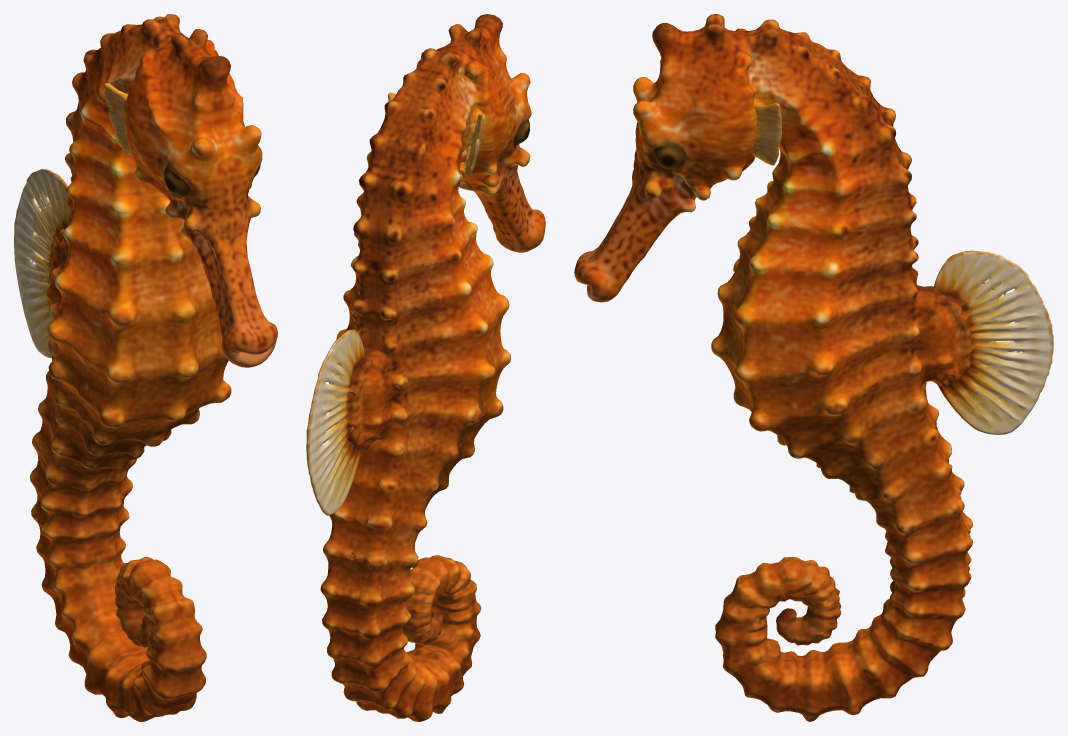
File: 20_seahorse.glb
3 renders of one model, left to right at view 1: azimuth 30°, elevation 25°; view 2: azimuth 150°, elevation 25°; view 3: azimuth 270°, elevation 25°, orthographic. The views are drawn at different scales.
Visible parts, largest first — view 1: world; view 2: world; view 3: world.
Boxes of the visible parts, x1=… form: world: x1=14, y1=14, x2=277, y2=721; world: x1=306, y1=14, x2=545, y2=721; world: x1=574, y1=14, x2=1053, y2=721.
Bounding box in the file's own units: 0.2521 × 1 × 0.6298.
1 material, 1 textured.
